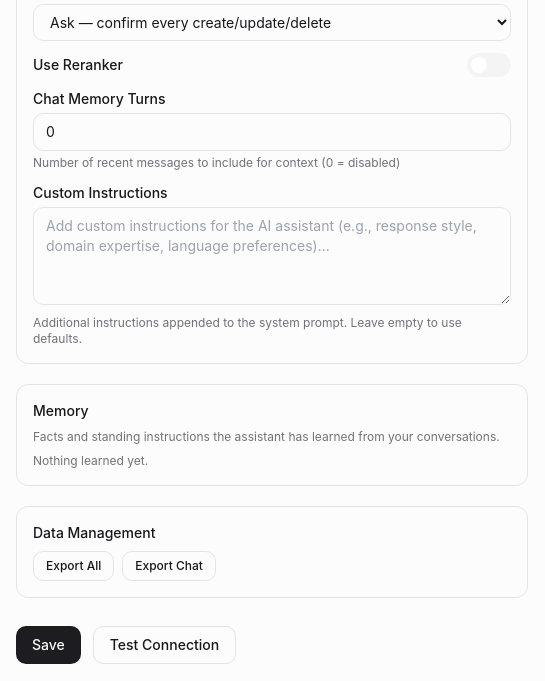
Test case: SettingsPage › displays test connection error message
(page scrolled)
Click the button with test id "test-connection-button".
click(164, 645)  # box [93,626,236,664]
(page scrolled)
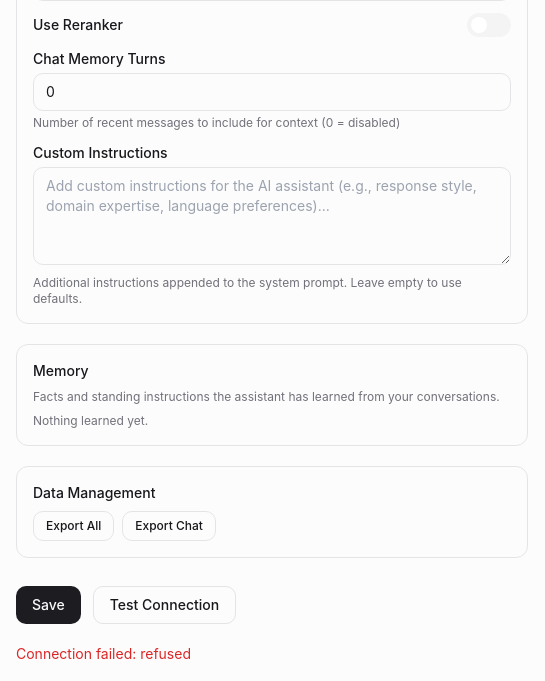
Now the text "Connection failed: refused" is shown, box [16,645,191,662]
